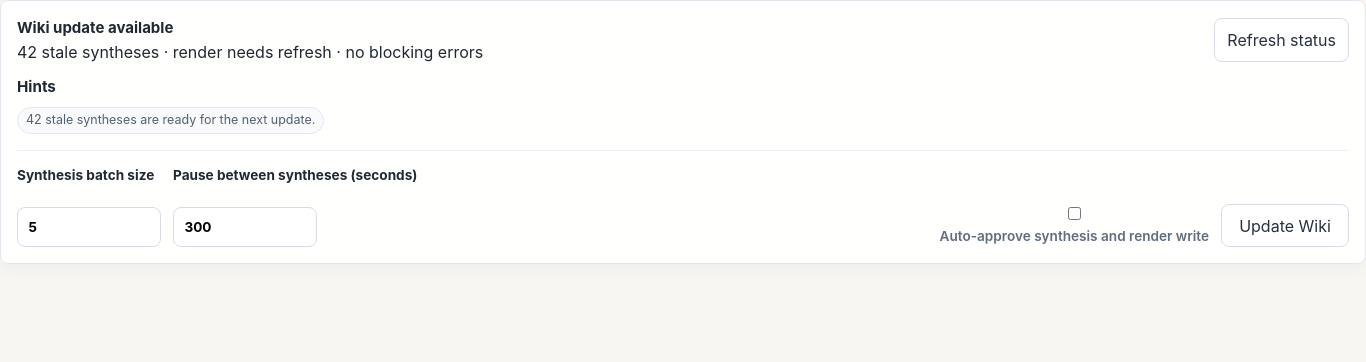
Test: UpdateWikiPanel › rejects invalid batch sizes client-side
The width and height of the screenshot is (1366, 362).
Expected: the button "Update Wiki" is shown, [1221,204,1349,247]
Replace the text in the number field labelled "Synthesis batch size" with "0" at (89, 227), box [17,207,161,247]
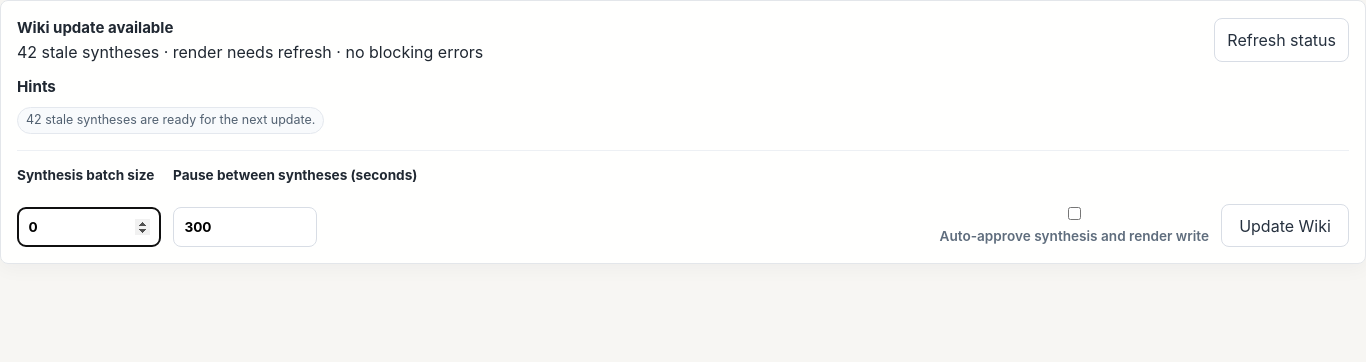
Click the button "Update Wiki" at (1285, 226), box [1221,204,1349,247]
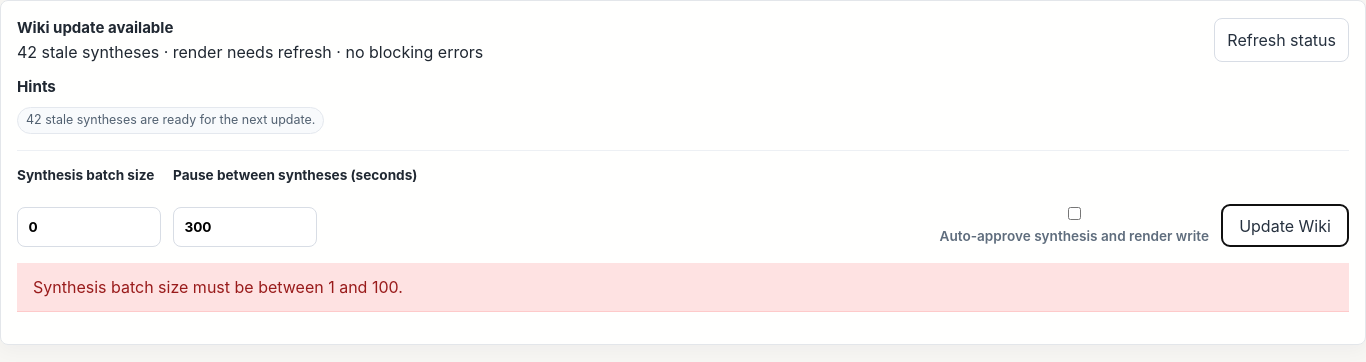
Expected: the text "Synthesis batch size must be between 1 and 100." is shown, [17,263,1349,312]
